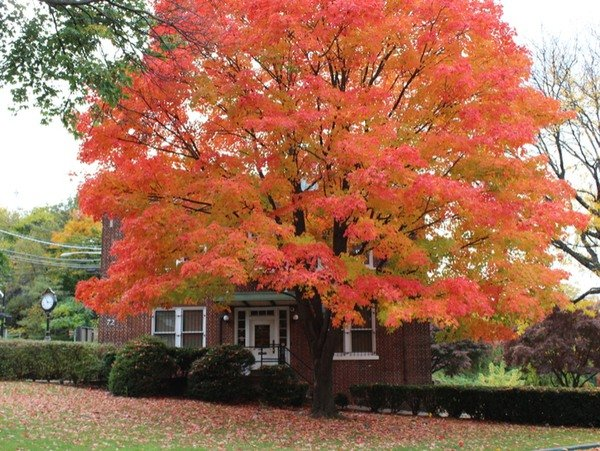bush: (109, 335, 313, 407)
tree: (85, 9, 564, 413)
